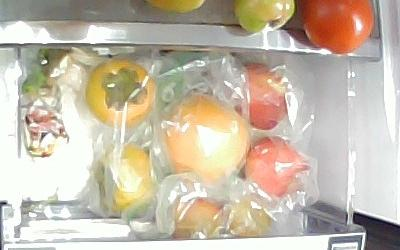apple_vinyl: (227, 62, 290, 130), (244, 135, 310, 196)
grapefruit_vinyl: (161, 95, 251, 179)
persimmon_vinyl: (86, 58, 154, 130), (97, 143, 153, 212)
prune_vinyl: (171, 196, 224, 241), (226, 194, 274, 238)
